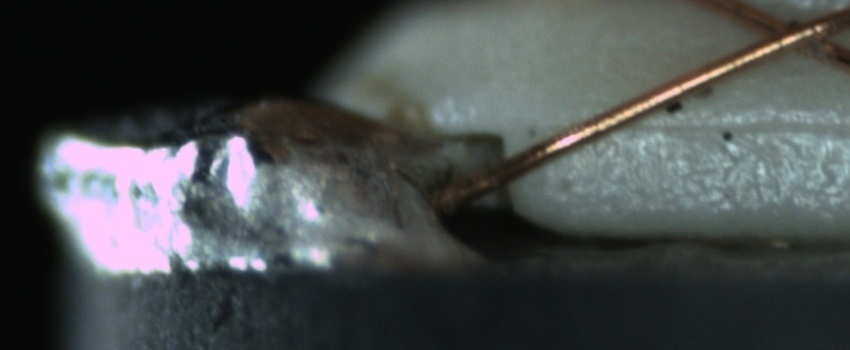CL: (741, 3, 841, 65)
DL: (609, 93, 846, 158)
